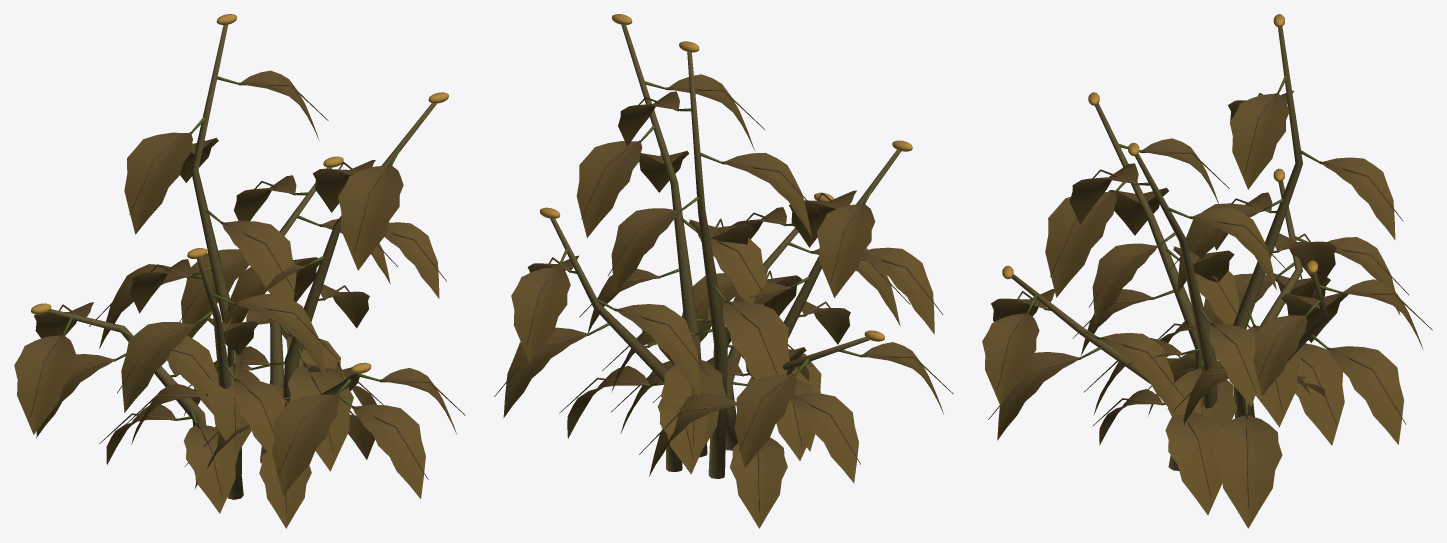
Rendered from rose_withered.glb.
The picture shows the model from 3 angles, left to right: view 1: azimuth 30°, elevation 25°; view 2: azimuth 150°, elevation 25°; view 3: azimuth 270°, elevation 25°; orthographic projection.
Visible parts, largest first — view 1: leaves.003, stems.003, seeds.001; view 2: leaves.003, stems.003, seeds.001; view 3: leaves.003, stems.003, seeds.001.
Part boxes in pixels (box(x1,y1,x2,y2)): leaves.003: box(14, 70, 456, 528); stems.003: box(30, 24, 465, 513); seeds.001: box(31, 14, 448, 373); leaves.003: box(503, 74, 943, 528); stems.003: box(494, 24, 953, 512); seeds.001: box(540, 14, 912, 341); leaves.003: box(982, 90, 1423, 528); stems.003: box(988, 26, 1432, 508); seeds.001: box(1002, 14, 1317, 279).
Size of the model in its own units: 0.688 by 0.7487 by 0.6812.
